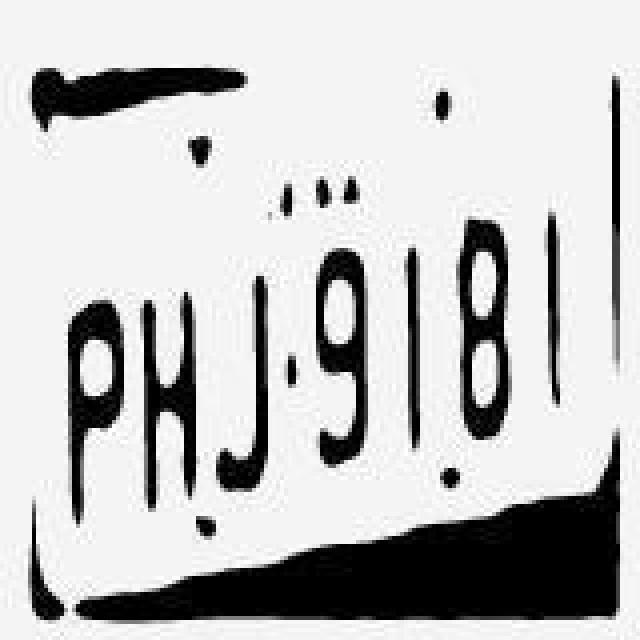1: (532, 192, 588, 440), (384, 224, 432, 480)
8: (446, 194, 530, 454)
9: (300, 240, 380, 504)
H: (130, 254, 206, 514)
J: (206, 252, 274, 508)
P: (52, 268, 132, 548)
